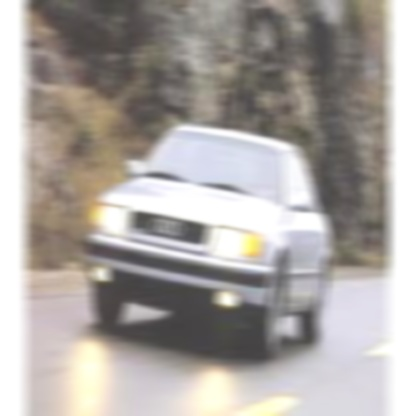Vehicle: (86, 121, 336, 368)
